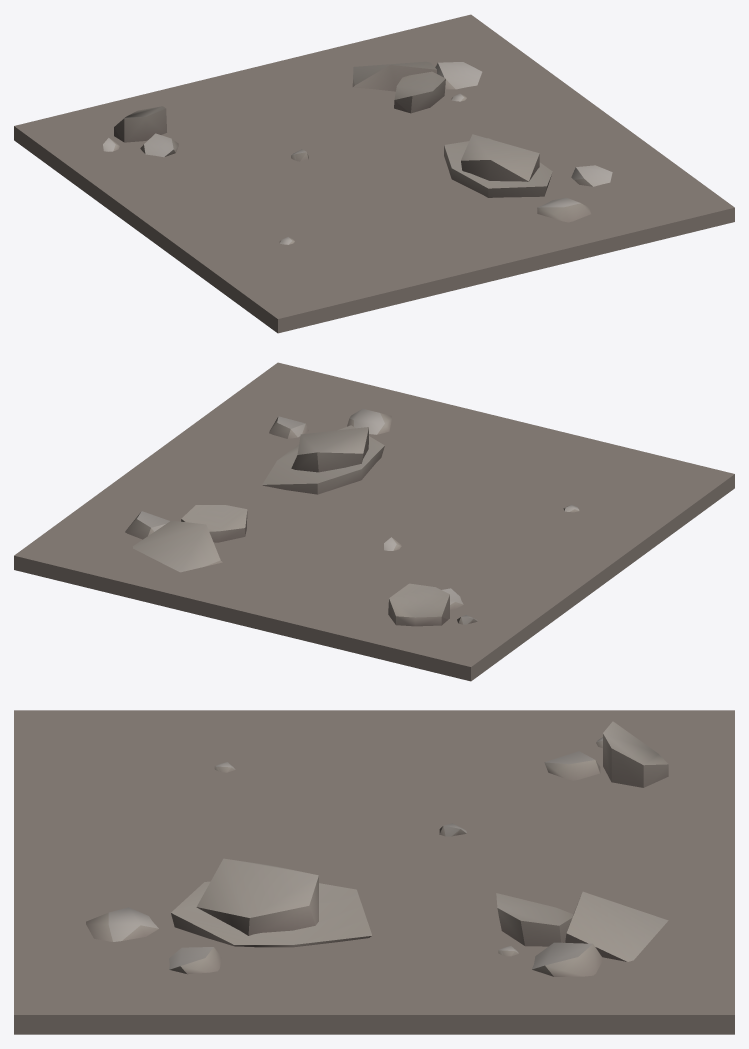
File: floor_dirt_large_rocky.glb
The picture shows the model from 3 angles, top to bottom: view 1: azimuth 30°, elevation 25°; view 2: azimuth 150°, elevation 25°; view 3: azimuth 270°, elevation 25°; orthographic projection. The views are drawn at different scales.
Visible parts, largest first — view 1: floor_dirt_large_rocky; view 2: floor_dirt_large_rocky; view 3: floor_dirt_large_rocky.
Boxes of the visible parts, bbox=[...] form: floor_dirt_large_rocky: bbox=[14, 14, 734, 333]; floor_dirt_large_rocky: bbox=[14, 362, 734, 681]; floor_dirt_large_rocky: bbox=[14, 710, 734, 1034].
Size of the model in its own units: 2 by 0.1964 by 2.
Materials: 1 (1 with a texture image).
